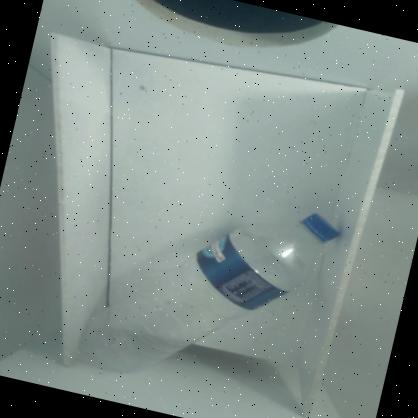bottle: (60, 143, 353, 418)
cap: (295, 203, 346, 249)
label: (186, 228, 302, 323)
